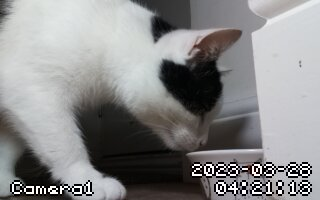bad: (4, 4, 250, 200)
